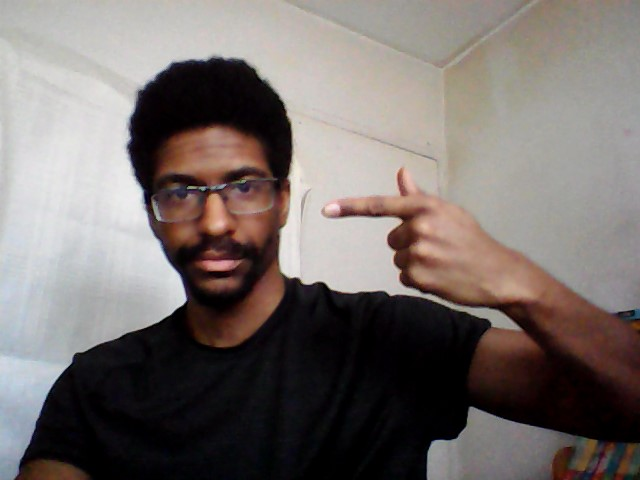g: (319, 163, 521, 309)
